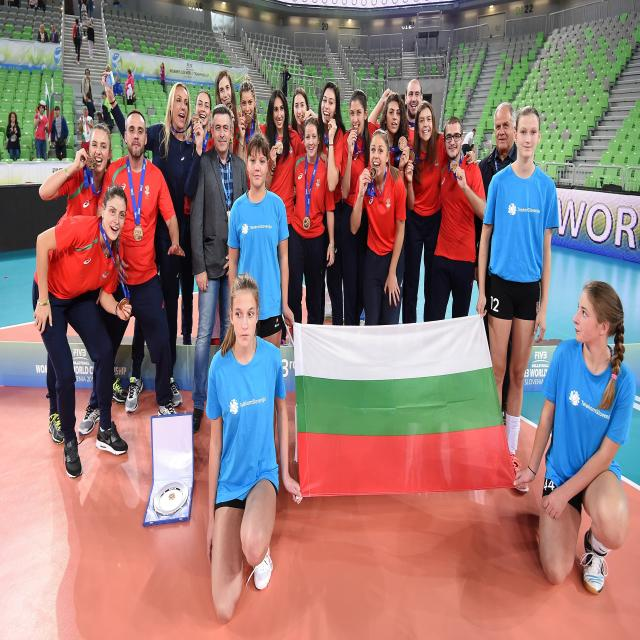body: (511, 281, 637, 598), (76, 107, 187, 442), (100, 76, 205, 415), (204, 274, 302, 624), (475, 105, 560, 496), (30, 187, 134, 481), (38, 121, 114, 448), (226, 130, 295, 442), (188, 104, 250, 436), (402, 100, 477, 326), (472, 101, 518, 424), (260, 88, 328, 271), (428, 116, 486, 322), (349, 129, 406, 326), (288, 115, 335, 325), (340, 89, 380, 326), (316, 82, 347, 325), (232, 74, 268, 194), (379, 92, 410, 200), (209, 69, 243, 156), (288, 87, 319, 142), (402, 80, 425, 150), (190, 90, 212, 157), (51, 105, 69, 161), (34, 100, 49, 161), (78, 106, 94, 160), (5, 111, 21, 162), (80, 68, 96, 106), (101, 90, 116, 126), (124, 68, 137, 106), (72, 18, 82, 66), (461, 128, 477, 157), (78, 0, 96, 24), (102, 104, 114, 134), (80, 0, 89, 39), (85, 90, 96, 121), (282, 64, 292, 97), (87, 22, 95, 62), (100, 0, 124, 11), (113, 74, 124, 96), (159, 62, 166, 94), (49, 24, 60, 44), (28, 0, 48, 11), (37, 23, 48, 42), (63, 0, 75, 16), (96, 111, 104, 124), (470, 143, 476, 154), (105, 64, 111, 72)
